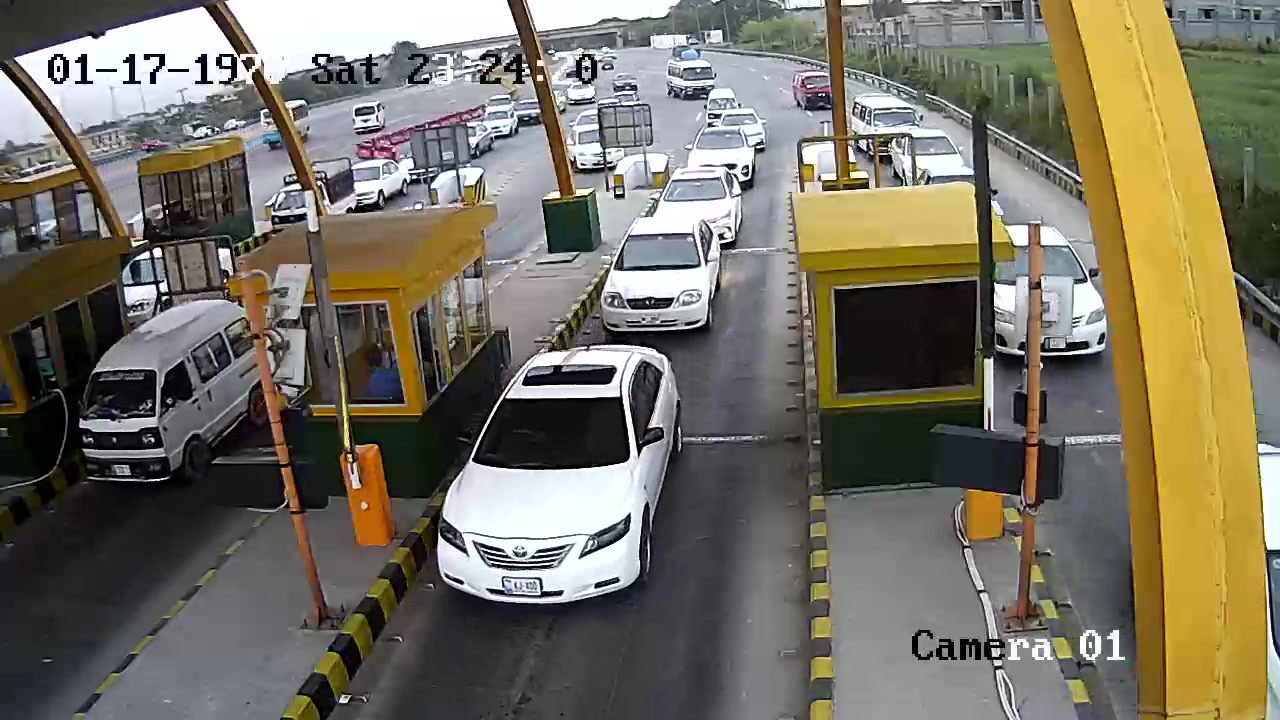F1: (432, 346, 699, 601)
